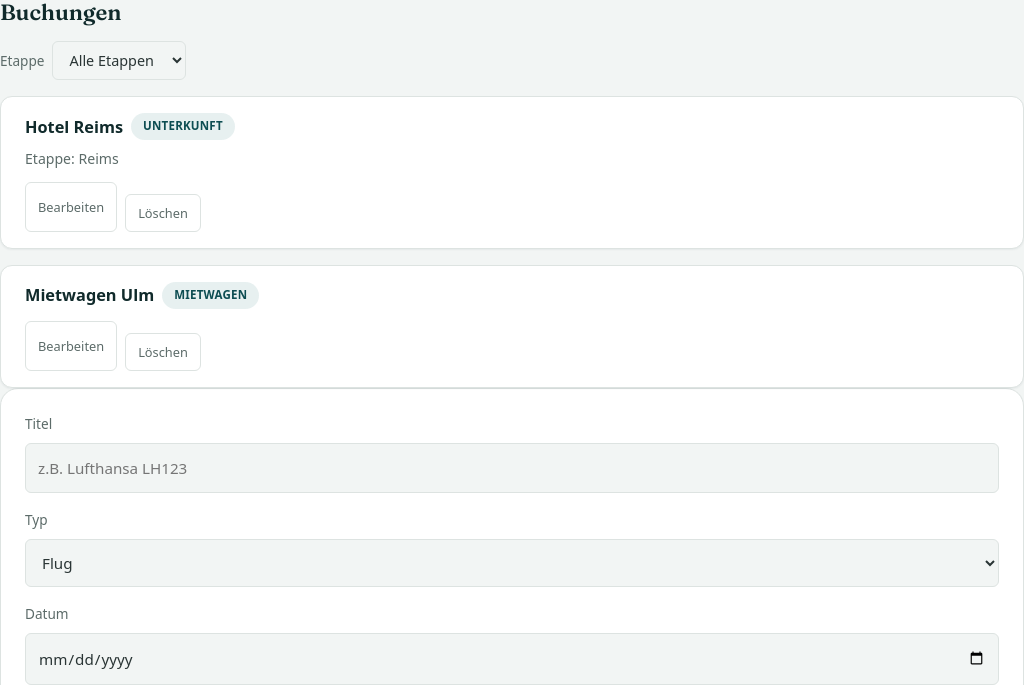
Test: Etappen-Filter im Bereich Buchungen › Nutzerpfad: Etappe ohne Eintraege waehlen -> verstaendliche Leermeldung statt leerer Liste
The image size is (1024, 685).
Expected: the text "Hotel Reims" is shown, [25,114,123,140]
Select "Rouen" in the dropdown labelled "Etappe": (120, 61) [52,42,186,80]
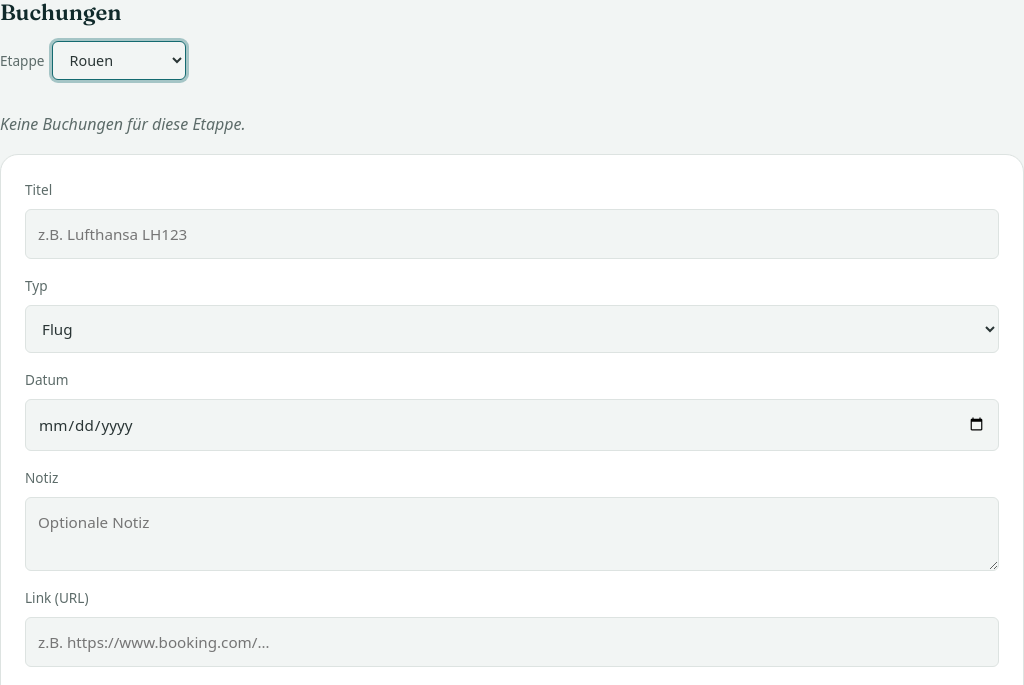
Expected: the text "Hotel Reims" is gone
Expected: the text "Mietwagen Ulm" is gone
Expected: the text "Keine Buchungen für diese Etappe." is shown, [0,114,246,136]
